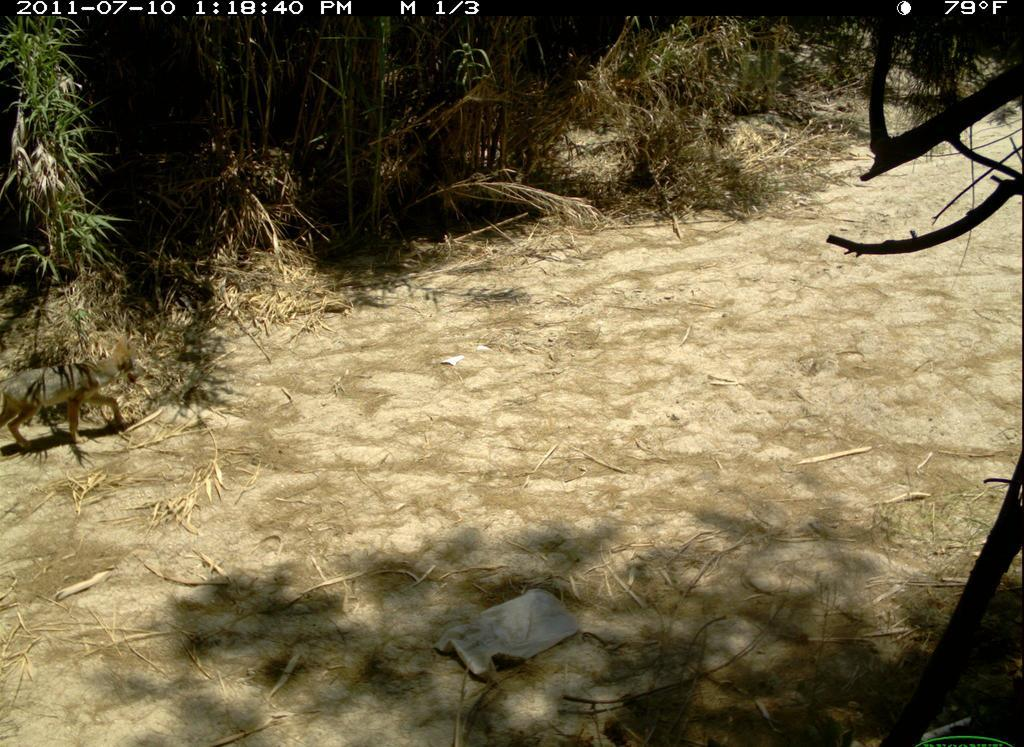coyote: (4, 336, 158, 464)
